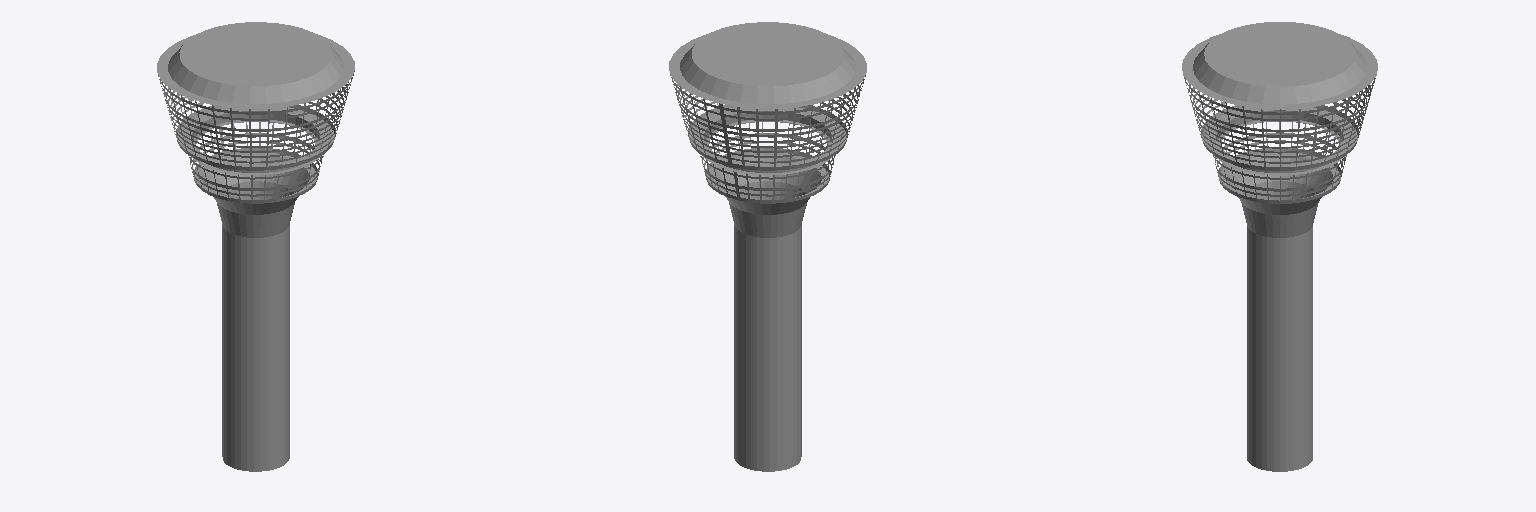
Rendered from TurnBaza1.obj.
3 renders of one model, left to right at view 1: azimuth 30°, elevation 25°; view 2: azimuth 150°, elevation 25°; view 3: azimuth 270°, elevation 25°, orthographic.
Visible parts, largest first — view 1: TurnBazaAlb_Plane.024; view 2: TurnBazaAlb_Plane.024; view 3: TurnBazaAlb_Plane.024.
Boxes of the visible parts, x1,y1,x2,y2 form: TurnBazaAlb_Plane.024: [157, 22, 354, 471]; TurnBazaAlb_Plane.024: [669, 22, 866, 471]; TurnBazaAlb_Plane.024: [1182, 22, 1377, 471].
Bounding box in the file's own units: 13.79 × 30.78 × 13.61.